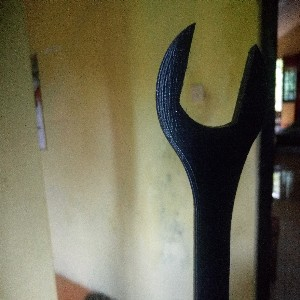spanner: (154, 21, 270, 300)
